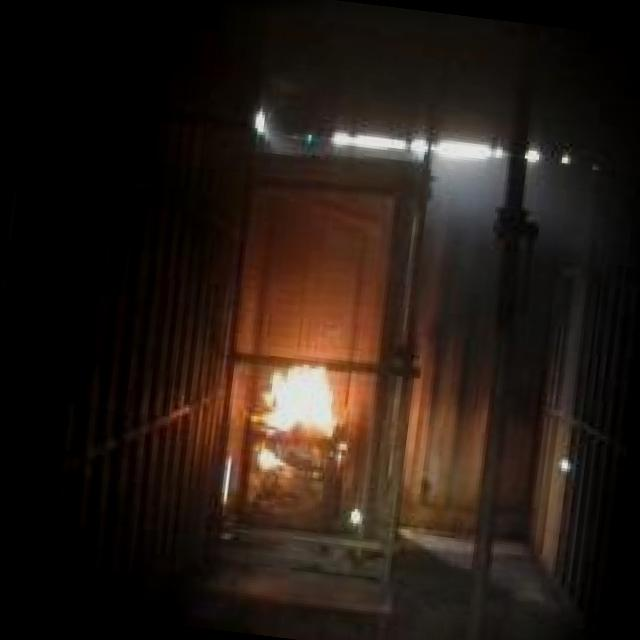fire: (243, 341, 345, 471)
